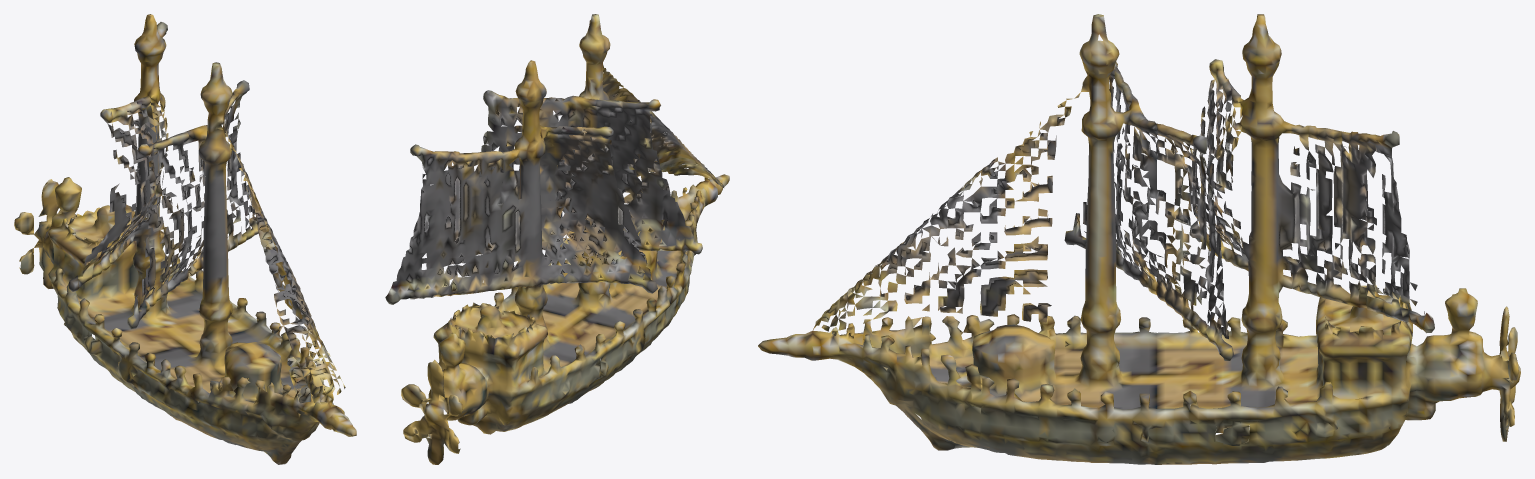
The model's file is mon3d.glb.
3 views of the same model, side by side, from view 1: azimuth 30°, elevation 25°; view 2: azimuth 150°, elevation 25°; view 3: azimuth 270°, elevation 25° (orthographic). The views are drawn at different scales.
Bounding box in the file's own units: 0.7654 × 1.24 × 1.96.
